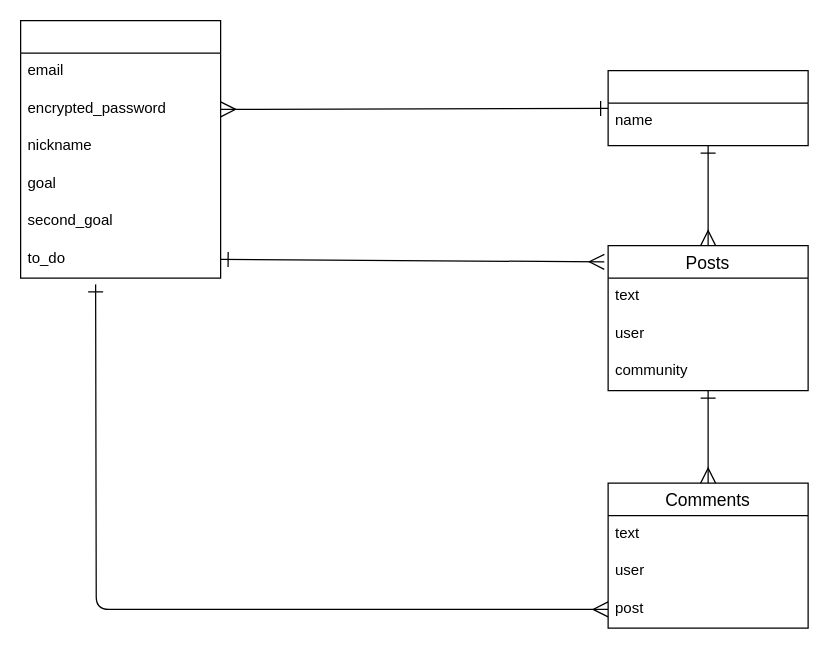
The diagram is 829 pixels wide and 649 high, and some of its shapes have lost their labels. Here are the shapes that lost their labels. From the top down, the box of each, then its label:
(607, 69, 808, 146): Communities
(19, 19, 221, 278): Users
